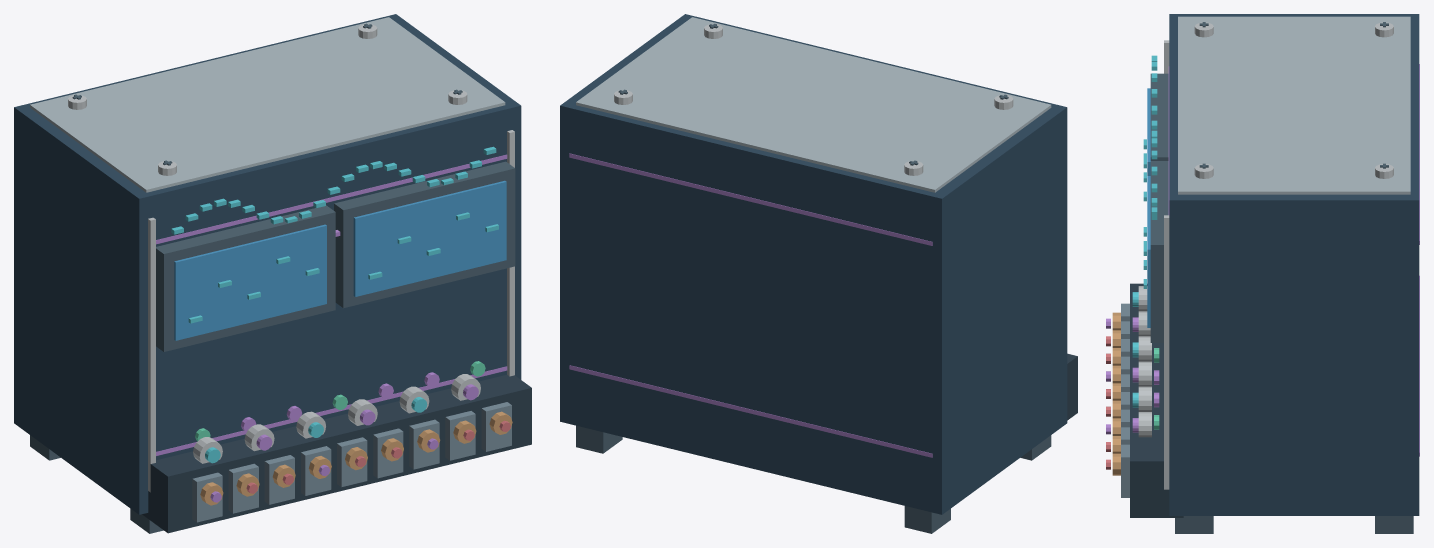
File: 53_L74_StageSynchronizationController.glb
3 views of the same model, side by side, from view 1: azimuth 30°, elevation 25°; view 2: azimuth 150°, elevation 25°; view 3: azimuth 270°, elevation 25° (orthographic).
Parts seen in each view (by area): view 1: StageSynchronizationController_Node_0000, StageSynchronizationController_Node_0007, StageSynchronizationController_Node_0049, StageSynchronizationController_Node_0032, StageSynchronizationController_Node_0025, StageSynchronizationController_Node_0031, StageSynchronizationController_Node_0024, StageSynchronizationController_Node_0005, StageSynchronizationController_Node_0023, StageSynchronizationController_Node_0006, StageSynchronizationController_Node_0021, StageSynchronizationController_Node_0056 (+8 smaller); view 2: StageSynchronizationController_Node_0000, StageSynchronizationController_Node_0007, StageSynchronizationController_Node_0020, StageSynchronizationController_Node_0022, StageSynchronizationController_Node_0045, StageSynchronizationController_Node_0047, StageSynchronizationController_Node_0049; view 3: StageSynchronizationController_Node_0000, StageSynchronizationController_Node_0007, StageSynchronizationController_Node_0049, StageSynchronizationController_Node_0031, StageSynchronizationController_Node_0006, StageSynchronizationController_Node_0024, StageSynchronizationController_Node_0047, StageSynchronizationController_Node_0048, StageSynchronizationController_Node_0032, StageSynchronizationController_Node_0074.
Boxes of the visible parts, <box> form: StageSynchronizationController_Node_0000: <box>14,14,521,514</box>; StageSynchronizationController_Node_0007: <box>30,17,505,192</box>; StageSynchronizationController_Node_0049: <box>142,375,531,533</box>; StageSynchronizationController_Node_0032: <box>353,180,506,296</box>; StageSynchronizationController_Node_0025: <box>174,224,326,340</box>; StageSynchronizationController_Node_0031: <box>334,161,515,308</box>; StageSynchronizationController_Node_0024: <box>156,205,335,351</box>; StageSynchronizationController_Node_0005: <box>148,217,155,492</box>; StageSynchronizationController_Node_0023: <box>156,154,507,244</box>; StageSynchronizationController_Node_0006: <box>507,130,514,376</box>; StageSynchronizationController_Node_0021: <box>156,366,507,455</box>; StageSynchronizationController_Node_0056: <box>264,455,294,504</box>; StageSynchronizationController_Node_0000: <box>560,14,1067,514</box>; StageSynchronizationController_Node_0007: <box>576,17,1051,192</box>; StageSynchronizationController_Node_0020: <box>569,365,932,457</box>; StageSynchronizationController_Node_0022: <box>569,153,932,245</box>; StageSynchronizationController_Node_0045: <box>904,506,950,533</box>; StageSynchronizationController_Node_0047: <box>576,425,622,453</box>; StageSynchronizationController_Node_0049: <box>1067,353,1077,420</box>; StageSynchronizationController_Node_0000: <box>1169,14,1419,515</box>; StageSynchronizationController_Node_0007: <box>1178,16,1410,194</box>; StageSynchronizationController_Node_0049: <box>1130,283,1183,517</box>; StageSynchronizationController_Node_0031: <box>1150,161,1168,342</box>; StageSynchronizationController_Node_0006: <box>1164,215,1169,489</box>; StageSynchronizationController_Node_0024: <box>1150,73,1168,160</box>; StageSynchronizationController_Node_0047: <box>1375,516,1413,533</box>; StageSynchronizationController_Node_0048: <box>1175,516,1213,533</box>; StageSynchronizationController_Node_0032: <box>1147,176,1150,327</box>; StageSynchronizationController_Node_0074: <box>1121,444,1129,497</box>.
Size of the model in its own units: 1.48 by 1.31 by 1.05.
